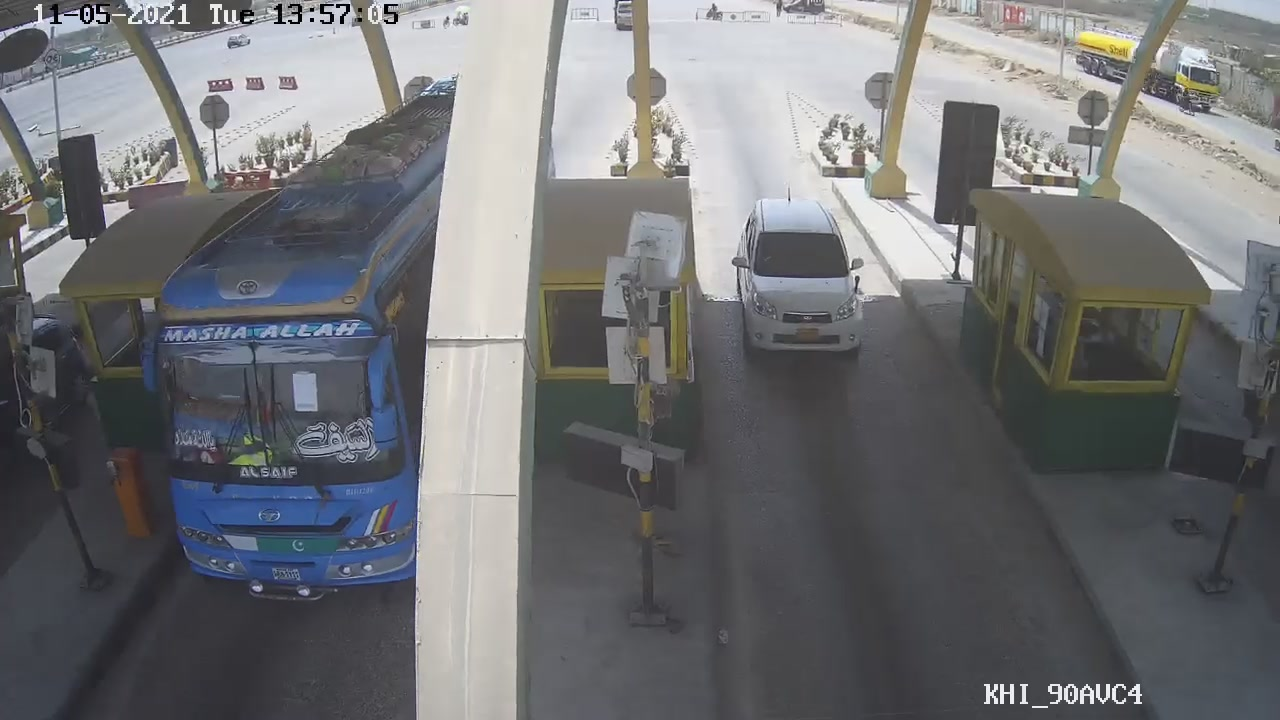F1: (723, 188, 877, 371)
